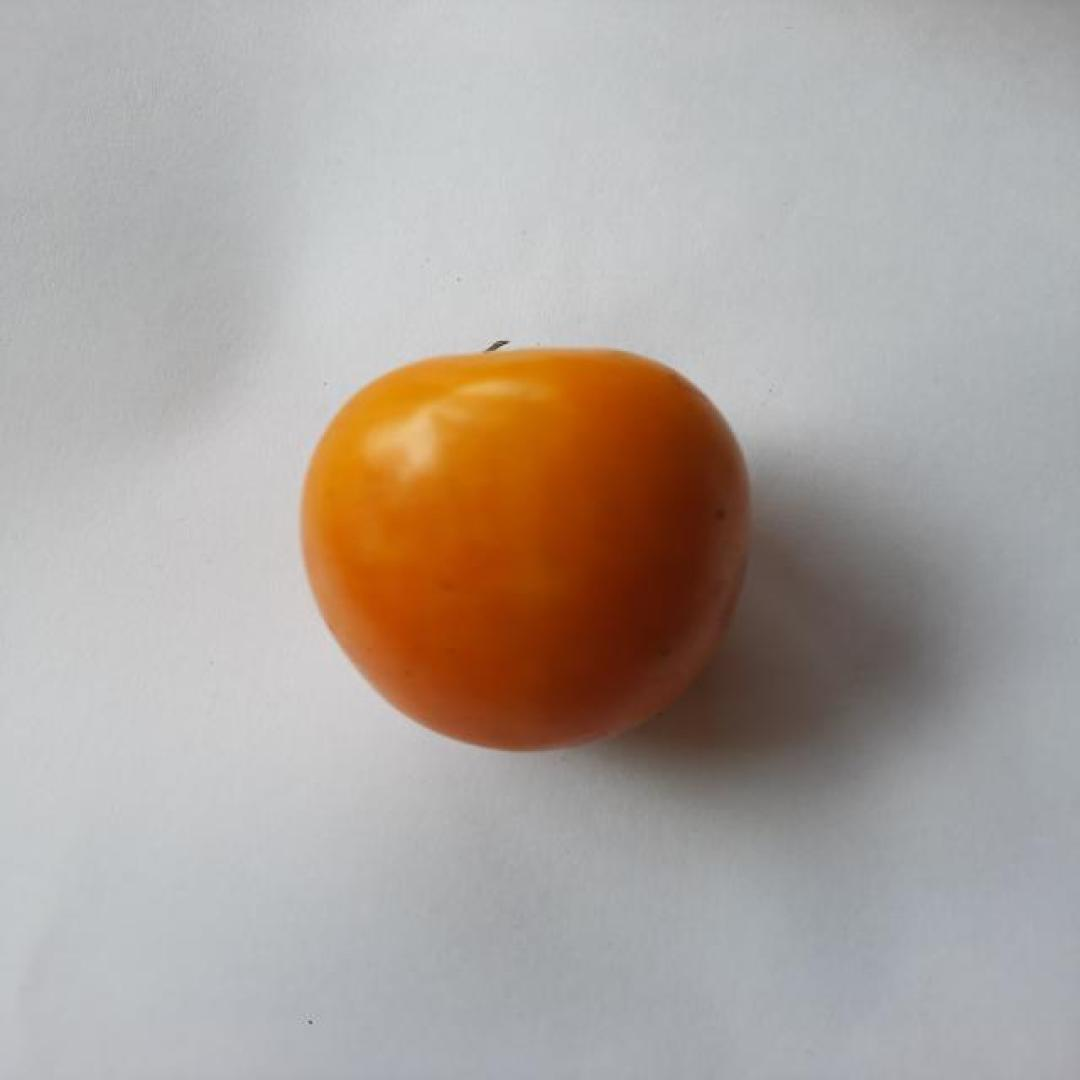setengah_matang: (296, 342, 754, 755)
